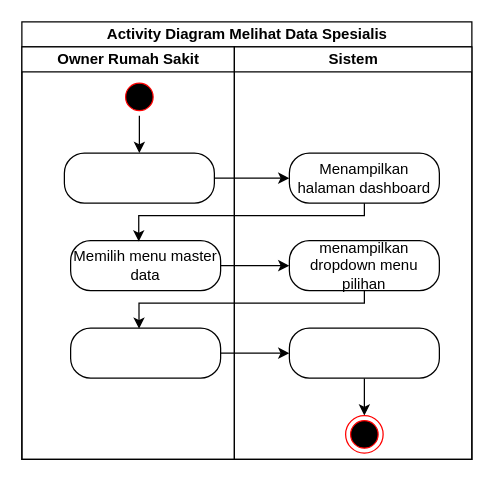
This 494x481 diagram has some shape labels left out. Each missing label, with the centre of its shape:
"Login" goes at point 138,177.
"Menampilkan data spesialis" goes at point 363,352.
"menekan menu data spesialis" goes at point 145,352.
